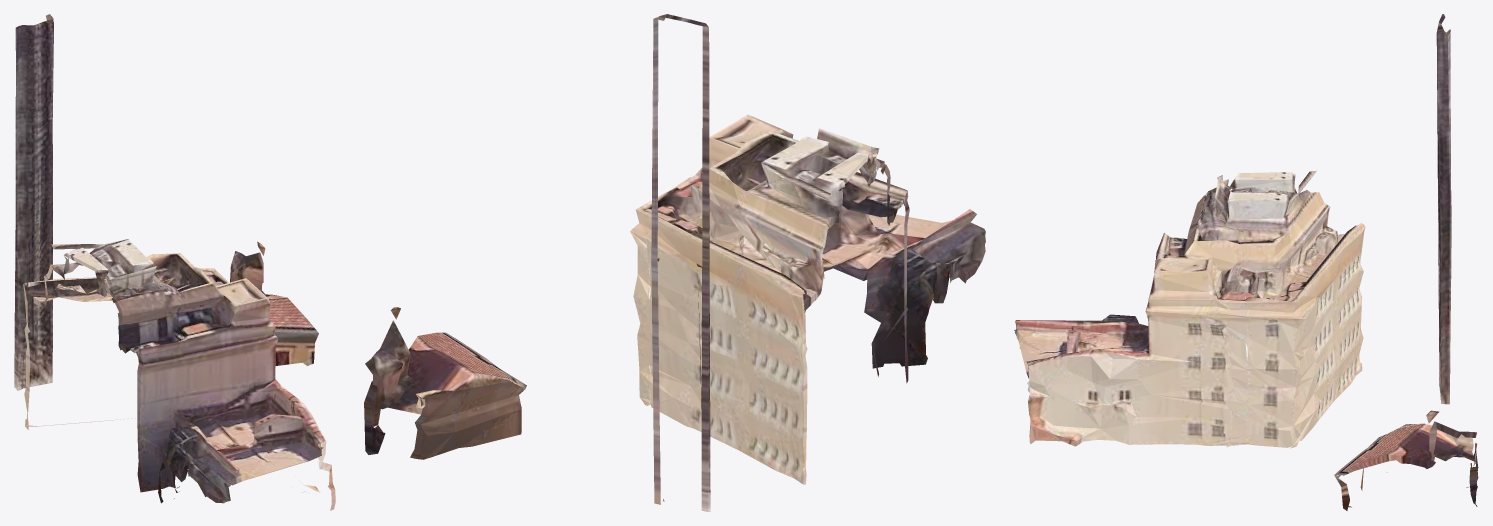
3 views of the same model, side by side, from view 1: azimuth 30°, elevation 25°; view 2: azimuth 150°, elevation 25°; view 3: azimuth 270°, elevation 25° (orthographic). The views are drawn at different scales.
Parts seen in each view (by area): view 1: Mesh_0; view 2: Mesh_0; view 3: Mesh_0.
Boxes of the visible parts, x1=… form: Mesh_0: x1=14, y1=14, x2=335, y2=510; Mesh_0: x1=364, y1=14, x2=985, y2=511; Mesh_0: x1=1014, y1=14, x2=1478, y2=510.
Bounding box in the file's own units: 29.76 × 37.02 × 41.51.
1 material, 1 textured.
